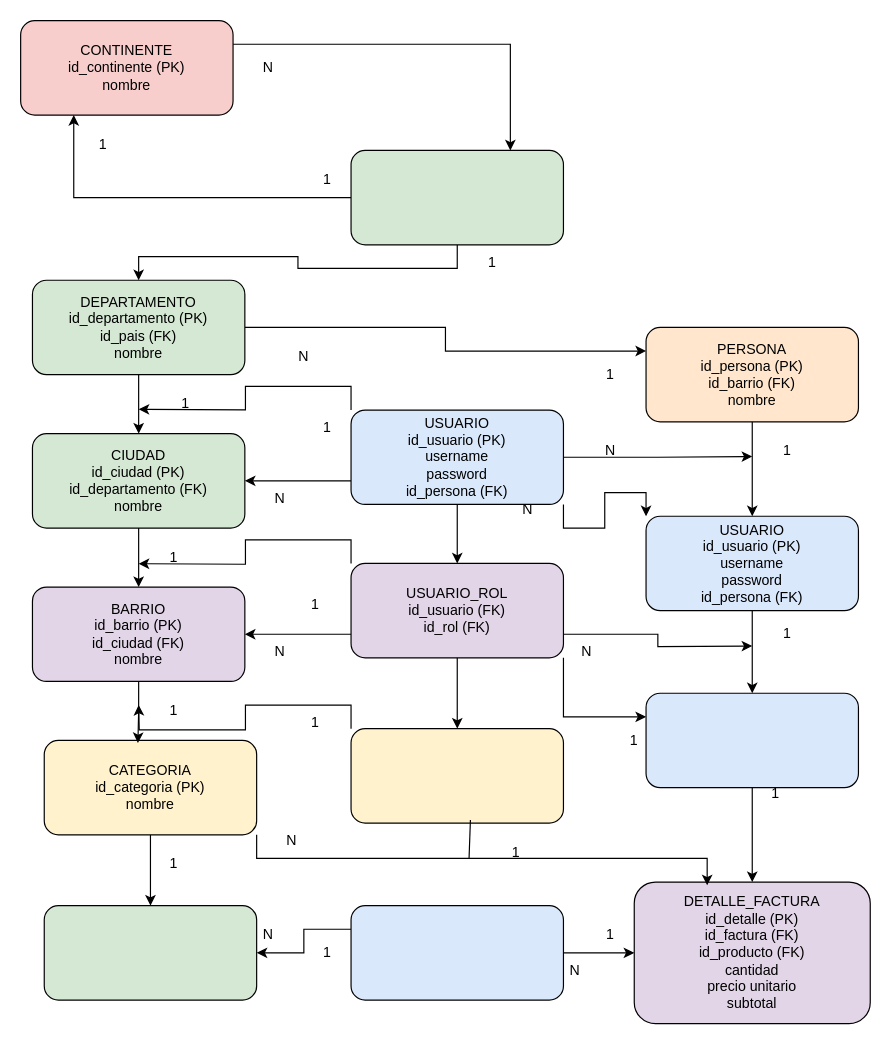
The diagram is 891 pixels wide and 1044 high, and some of its shapes have lost their labels. The centre of each missing label's shape, as x and y in pixels:
CATEGORIA id_categoria (PK) nombre id_barrio: point 456,775
FACTURA id_factura (PK) fecha id_usuario (FK): point 751,740
FACTURA id_factura (PK) id_usuario (FK): point 456,952
PAIS id_pais (PK) id_continente (FK) nombre: point 456,197
PRODUCTO id_producto (PK) id_categoria (FK) stock: point 150,952
